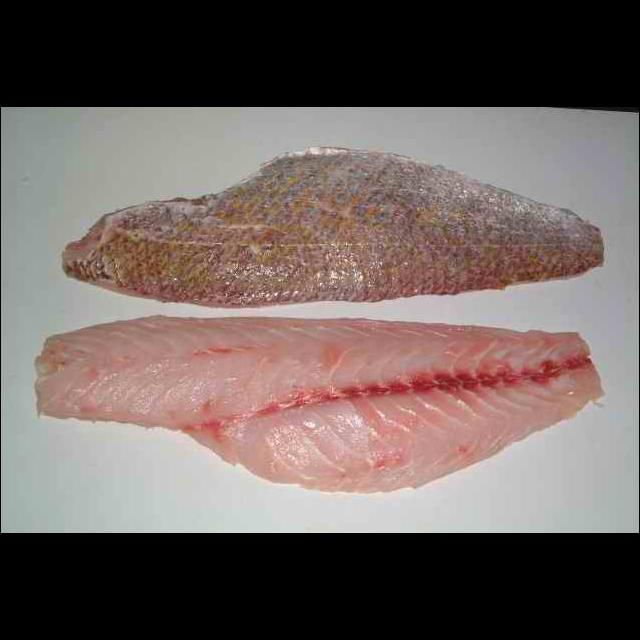fish: (14, 309, 617, 505)
